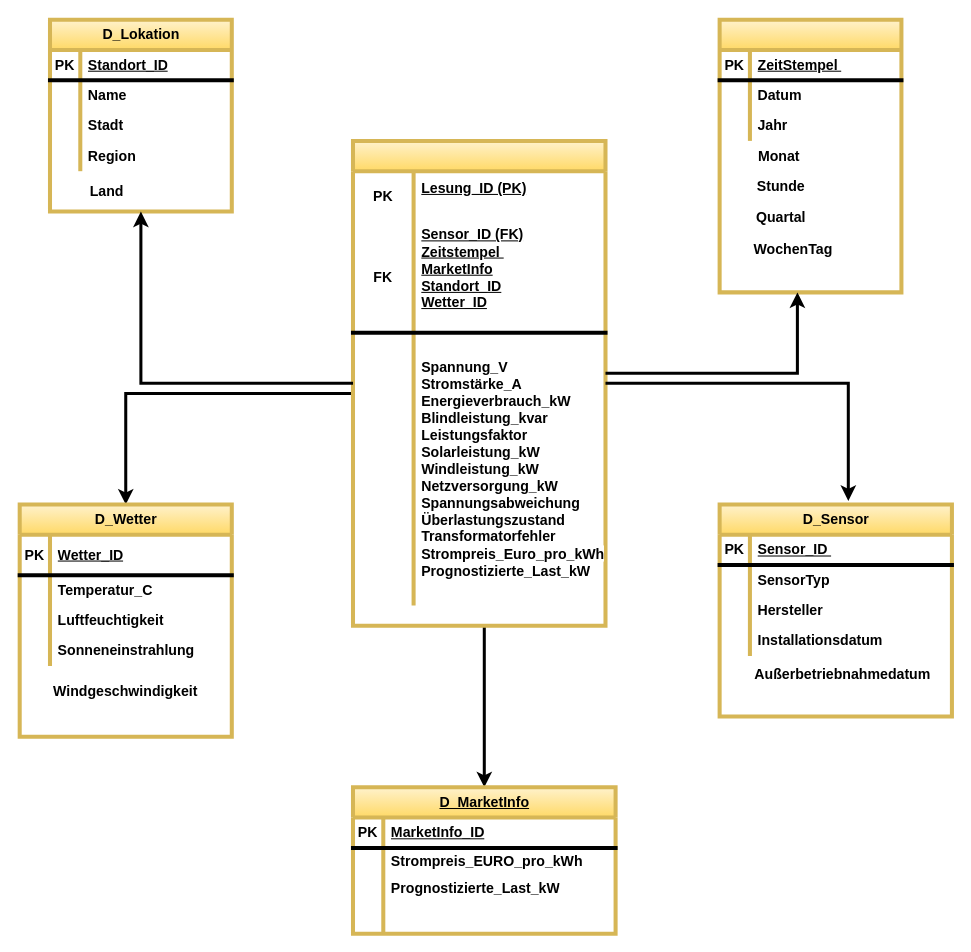
This 971x952 diagram has some shape labels left out. The shapes that lost their labels are listed below. From the top down, each one's box as (x1, y1, x2, y2) in pixels, then its label:
(717, 17, 903, 294): D_Zeit
(350, 138, 607, 627): F_EnergieAblesung
